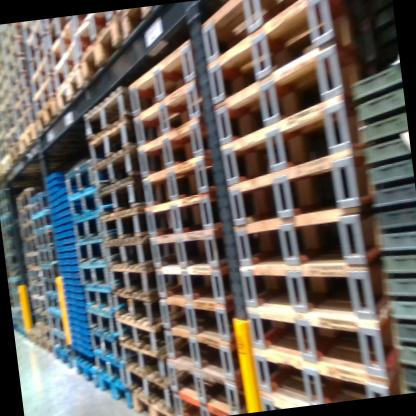pallet: (211, 82, 370, 202), (197, 0, 356, 119), (241, 276, 400, 385), (205, 39, 358, 151), (232, 239, 392, 346), (247, 322, 406, 411), (226, 149, 379, 240), (230, 206, 384, 279), (195, 0, 350, 70), (119, 30, 204, 124), (158, 280, 243, 348), (169, 313, 244, 388), (127, 77, 210, 144), (131, 111, 214, 177), (163, 352, 248, 414), (148, 225, 231, 285), (155, 254, 235, 313), (144, 188, 228, 244), (137, 150, 223, 199), (79, 84, 136, 154), (82, 140, 145, 193), (75, 18, 123, 85), (109, 284, 169, 336), (117, 331, 171, 385), (87, 172, 149, 219), (81, 116, 147, 160), (104, 256, 162, 302), (126, 362, 180, 411), (101, 224, 158, 269), (116, 309, 168, 357), (97, 200, 156, 242), (173, 383, 242, 416), (40, 18, 79, 76), (20, 23, 52, 88), (68, 11, 113, 51), (51, 53, 82, 111), (95, 369, 132, 415), (50, 44, 82, 96), (115, 6, 159, 41), (61, 157, 97, 199), (93, 347, 130, 387), (33, 98, 70, 137), (128, 388, 178, 416), (65, 189, 100, 225), (88, 328, 121, 366), (83, 284, 120, 316), (68, 209, 102, 242), (72, 357, 102, 394), (78, 263, 113, 294), (74, 237, 109, 266), (84, 308, 116, 339), (16, 122, 39, 161), (43, 17, 71, 46), (28, 192, 52, 225), (28, 201, 52, 234), (32, 79, 57, 110), (32, 237, 58, 266), (30, 220, 55, 250), (15, 109, 38, 137), (49, 326, 67, 355), (44, 304, 64, 330), (41, 263, 60, 281), (41, 278, 58, 298), (43, 294, 59, 312)
